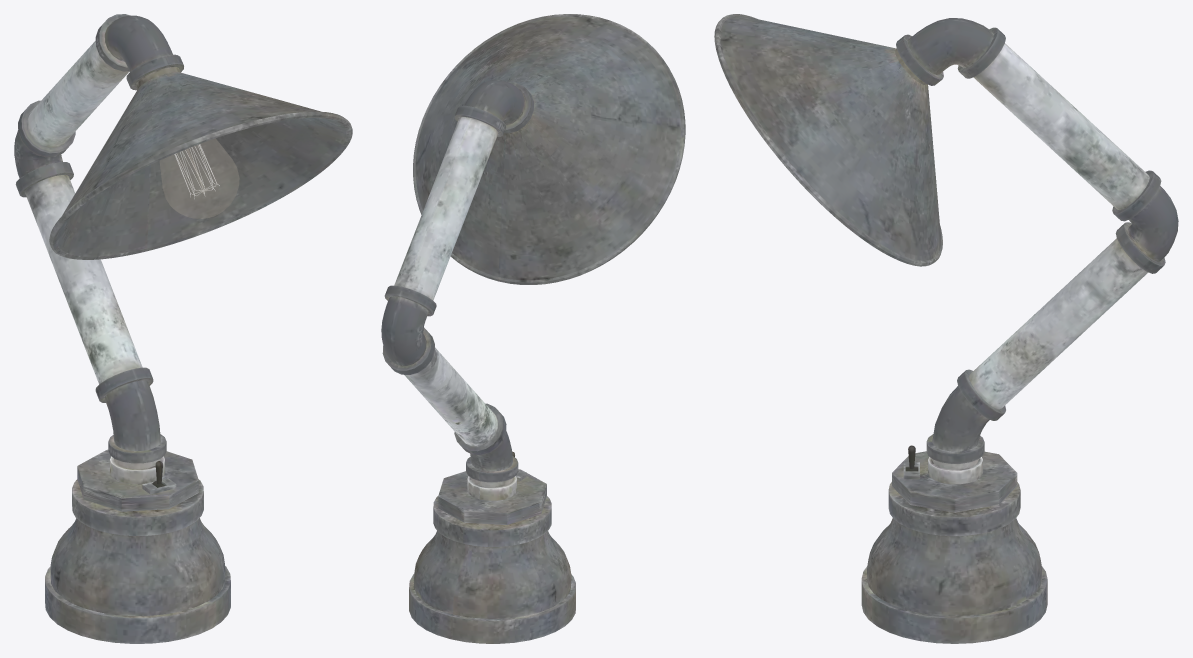
Rendered from industrial_pipe_lamp.81c62902.glb.
3 views of the same model, side by side, from view 1: azimuth 30°, elevation 25°; view 2: azimuth 150°, elevation 25°; view 3: azimuth 270°, elevation 25° (orthographic). The views are drawn at different scales.
Visible parts, largest first — view 1: industrial_pipe_lamp, industrial_pipe_lamp_bulb; view 2: industrial_pipe_lamp; view 3: industrial_pipe_lamp.
Boxes of the visible parts, x1=… form: industrial_pipe_lamp: x1=14, y1=14, x2=352, y2=643; industrial_pipe_lamp_bulb: x1=160, y1=138, x2=239, y2=218; industrial_pipe_lamp: x1=381, y1=14, x2=685, y2=643; industrial_pipe_lamp: x1=714, y1=14, x2=1178, y2=643.
Size of the model in its own units: 0.5025 by 1 by 0.7197.
Materials: 2 (2 with a texture image).
